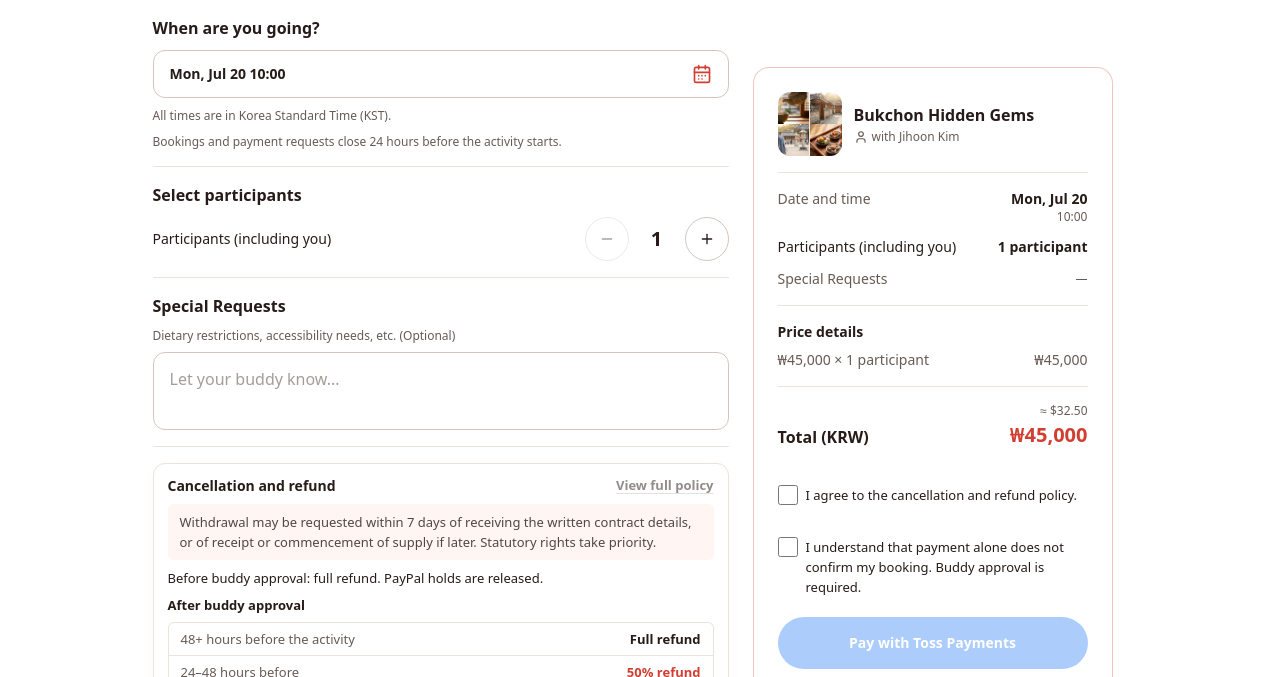
Test: BookingForm › does not open Toss when the displayed amount differs from the server snapshot
Click the 2nd checkbox at (788, 546), box [778, 536, 798, 556]
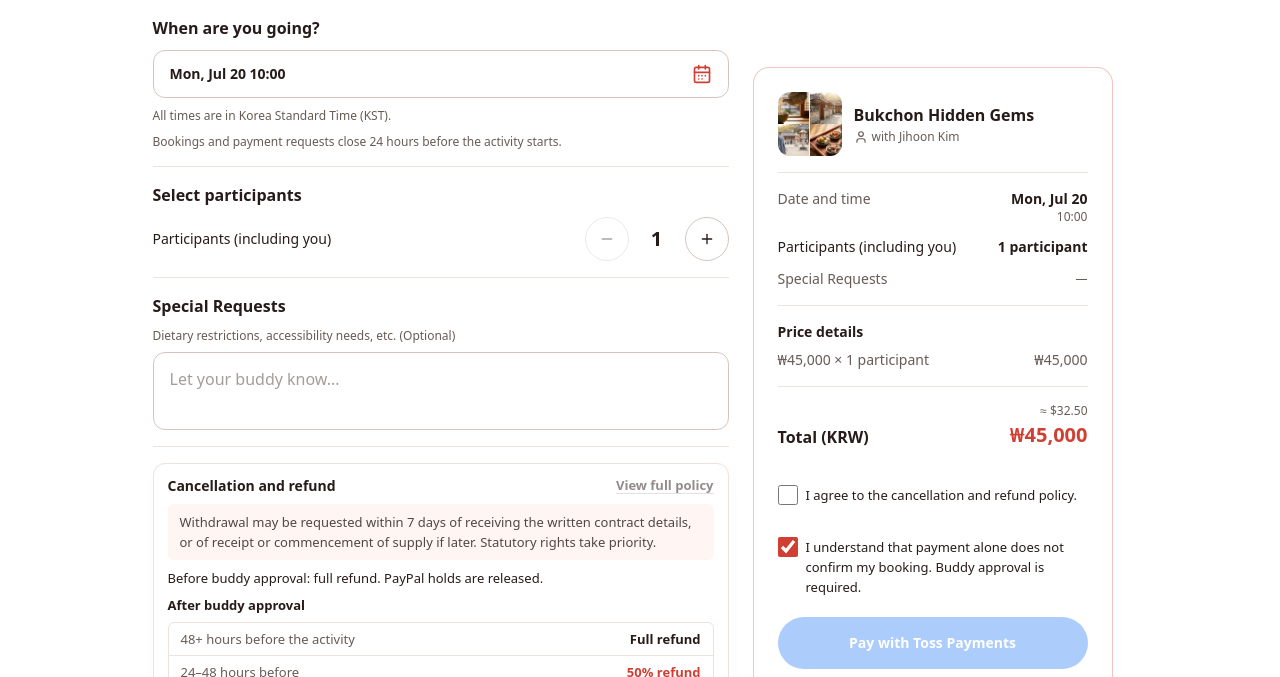
Click the checkbox labelled "I agree to the cancellation and refund policy." at (788, 494), box [778, 484, 798, 504]
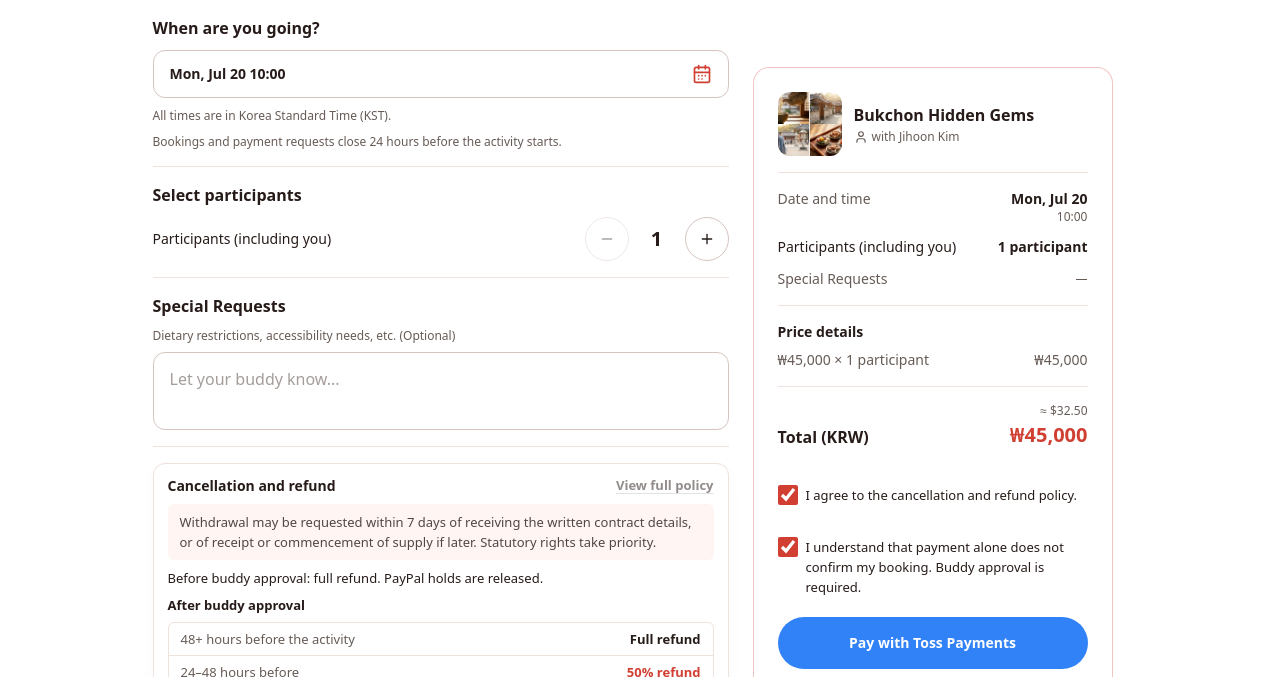
Now the button "Pay with Toss Payments" is enabled
Click the button "Pay with Toss Payments" at (932, 642), box [778, 616, 1088, 668]
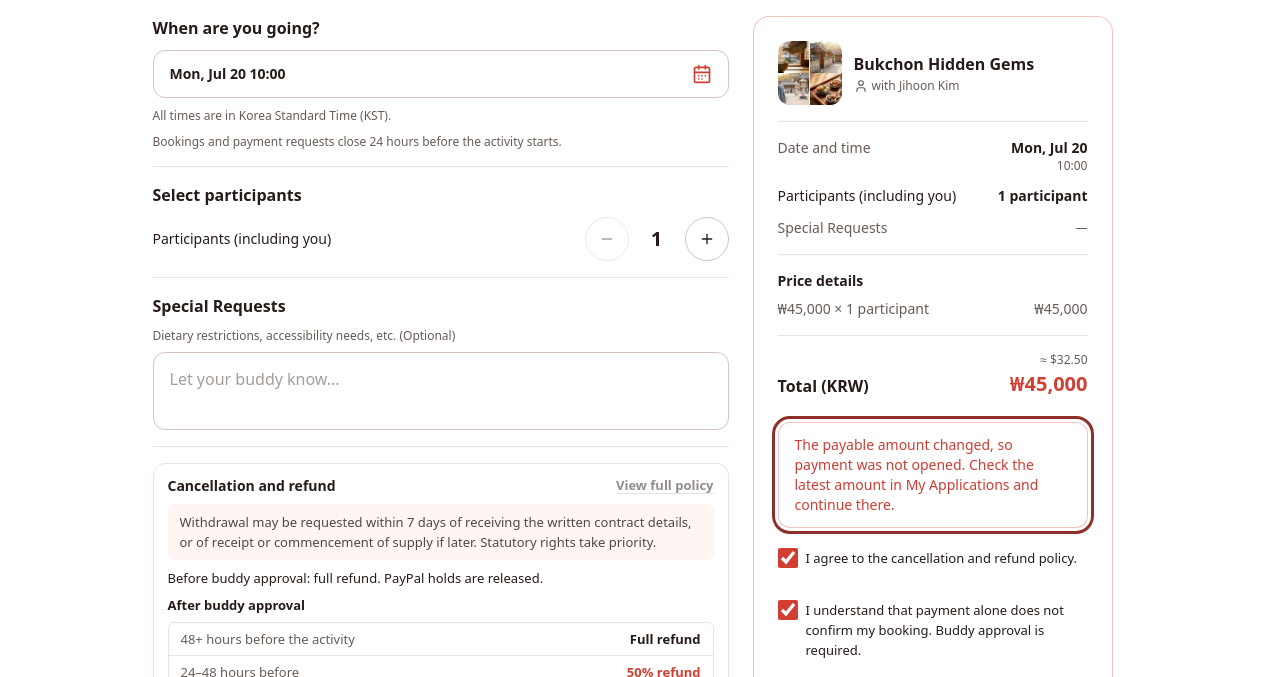
Now the 2nd message shows "The payable amount changed", box [794, 435, 1038, 514]
